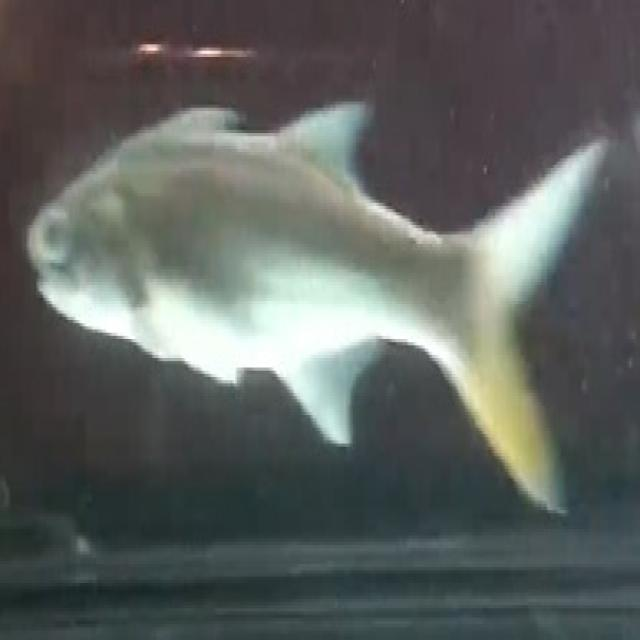Fourfinger-Threadfin: (13, 72, 628, 527)
